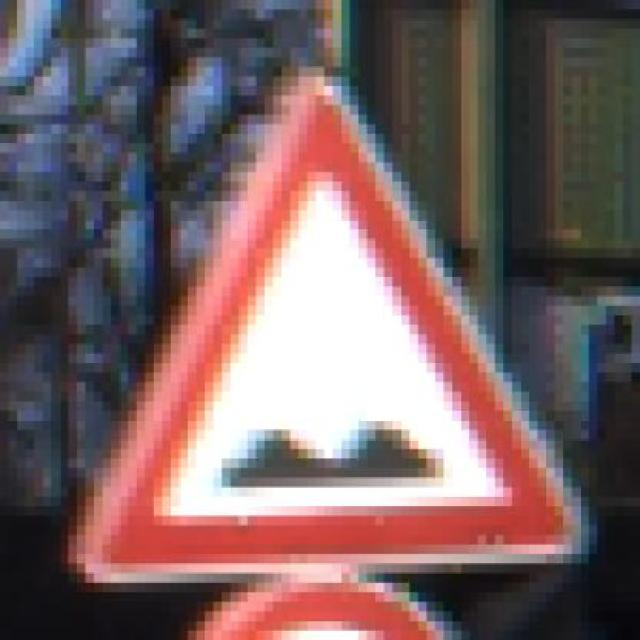Uneven Road: (68, 57, 598, 592)
